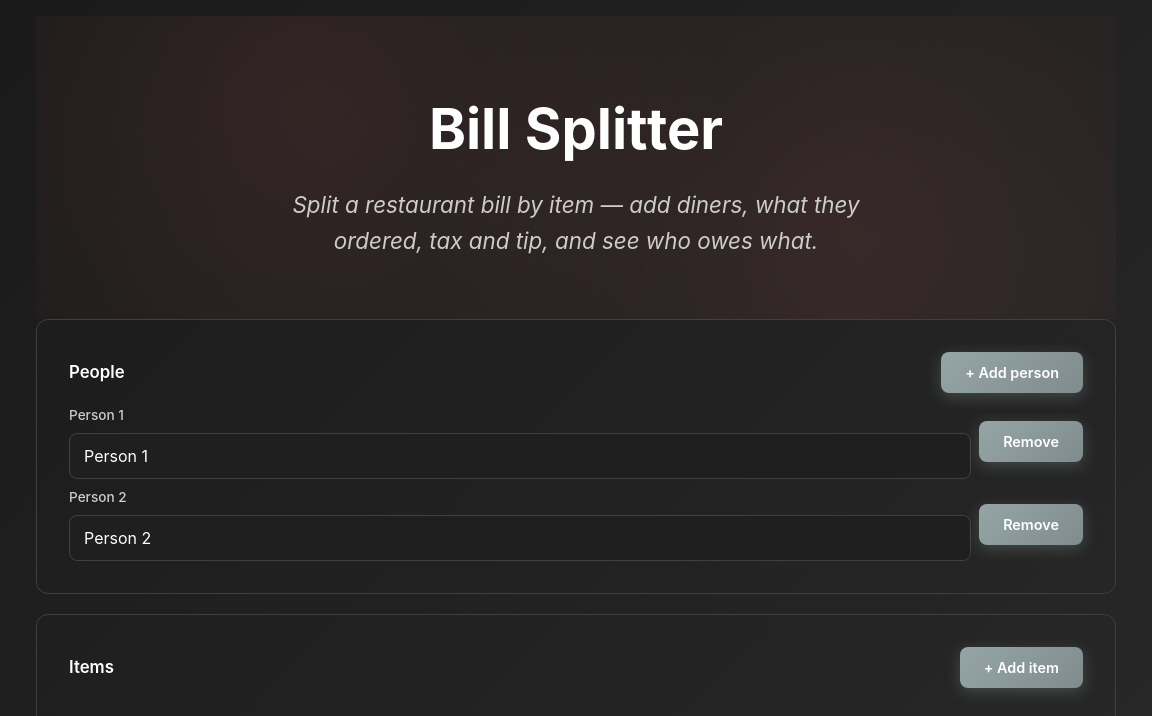
Test case: <BillSplitter /> › Remove person removes the row (but the last person can't be removed)
Click the 2nd button "Remove" at (1031, 524), box [979,504,1083,545]
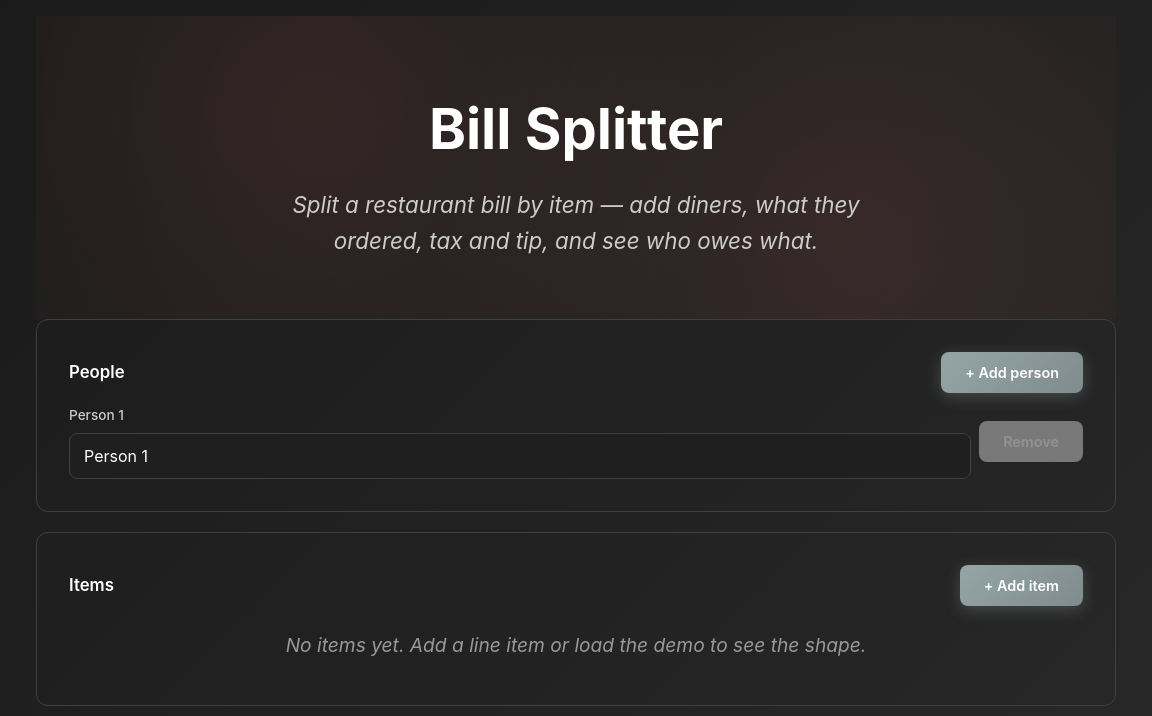
Expected: the label showing "person 2" is gone
